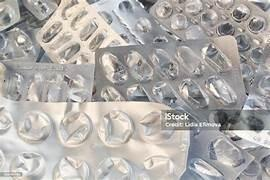pill_Strip: (37, 0, 125, 63)
